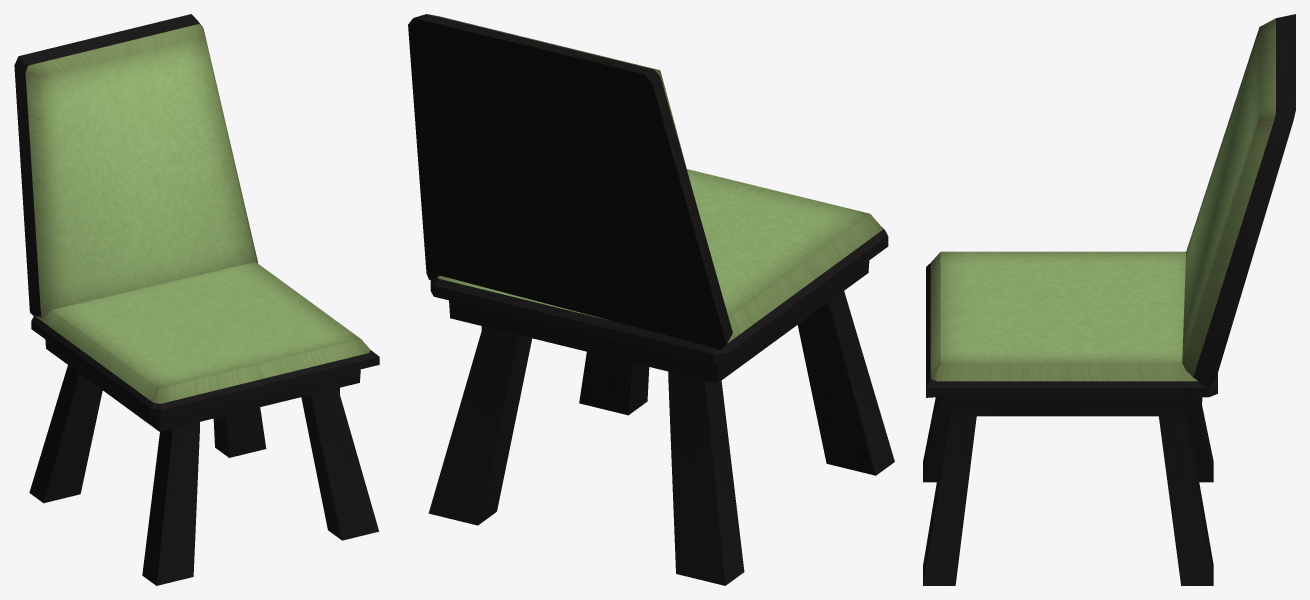
The model's file is Dining_Room_Chair_D.FBX.
3 views of the same model, side by side, from view 1: azimuth 30°, elevation 25°; view 2: azimuth 150°, elevation 25°; view 3: azimuth 270°, elevation 25° (orthographic). The views are drawn at different scales.
Visible parts, largest first — view 1: Dining_Chair; view 2: Dining_Chair; view 3: Dining_Chair.
Part boxes in pixels (box(x1,y1,x2,y2)): Dining_Chair: box(14, 14, 379, 585); Dining_Chair: box(408, 14, 894, 585); Dining_Chair: box(923, 14, 1295, 585).
Bounding box in the file's own units: 121 × 208 × 152.
